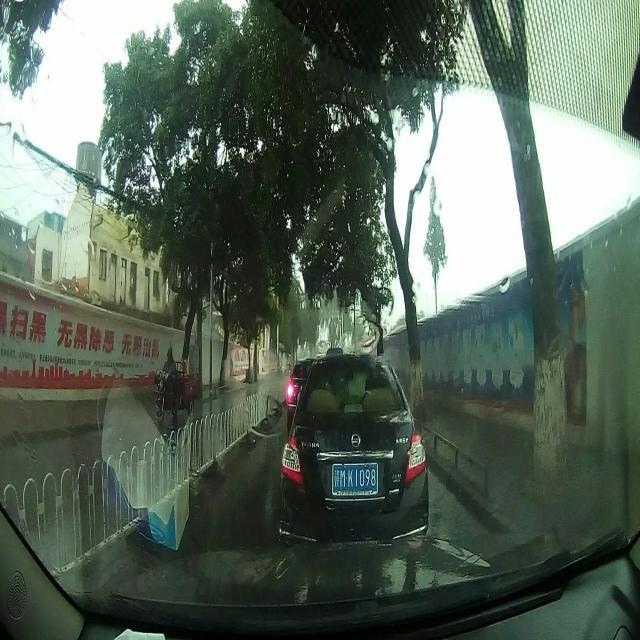car: (282, 352, 430, 546)
